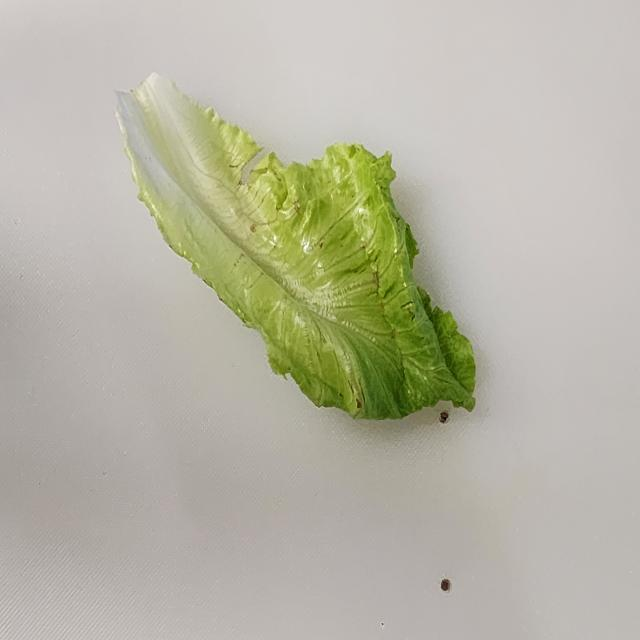lettuce: (113, 70, 477, 422)
